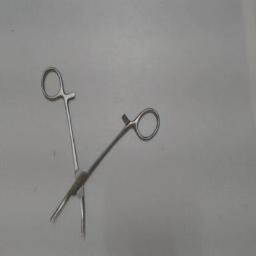Crile Artery Forceps: (38, 64, 162, 240)
